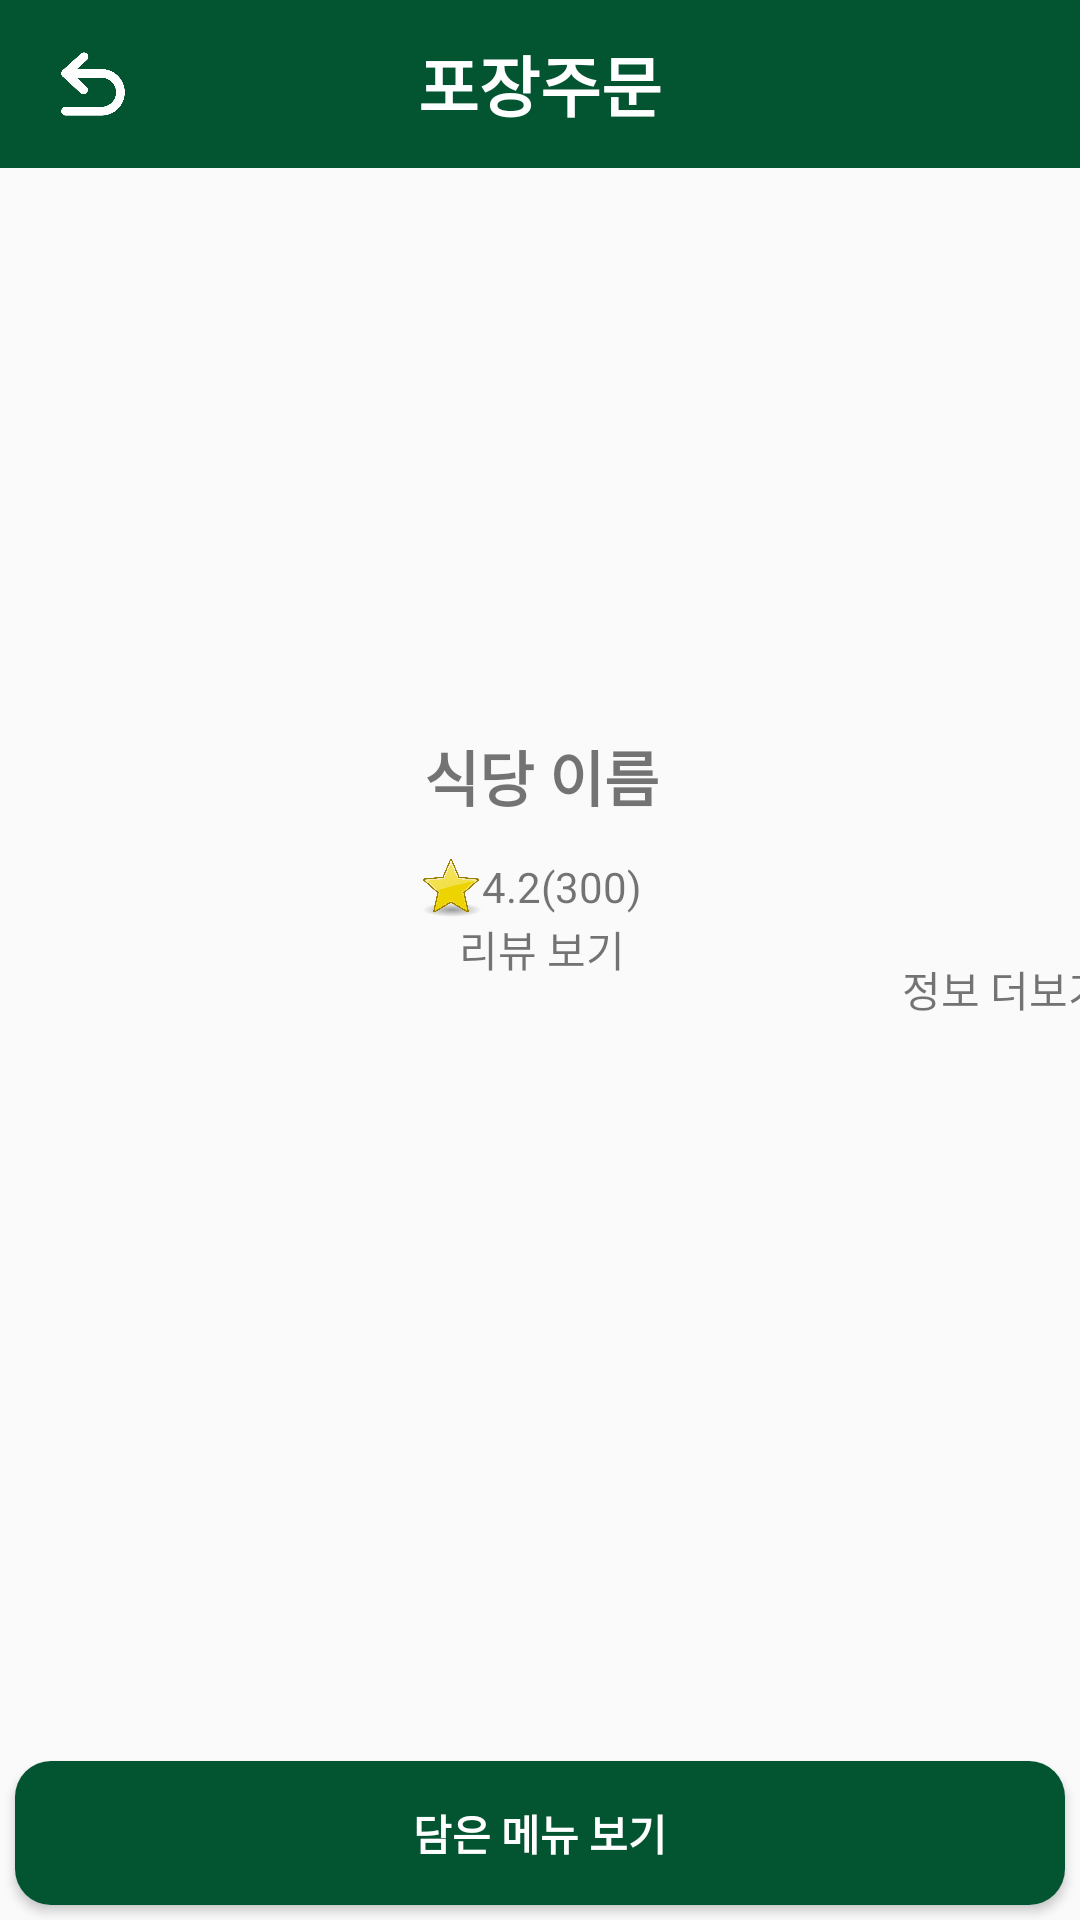

Where icons sit on this 1080*1920 app screen, as [x1=x1, y1=y1, x2=x2, y2=y2]:
star: [x1=423, y1=859, x2=479, y2=915]
